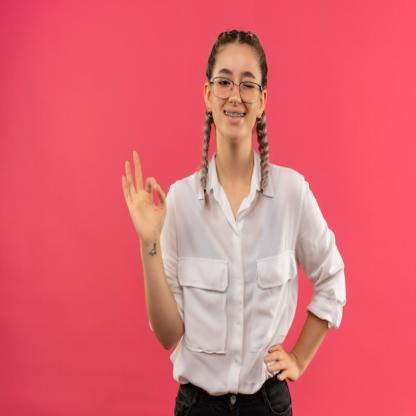ok: (118, 148, 172, 250)
